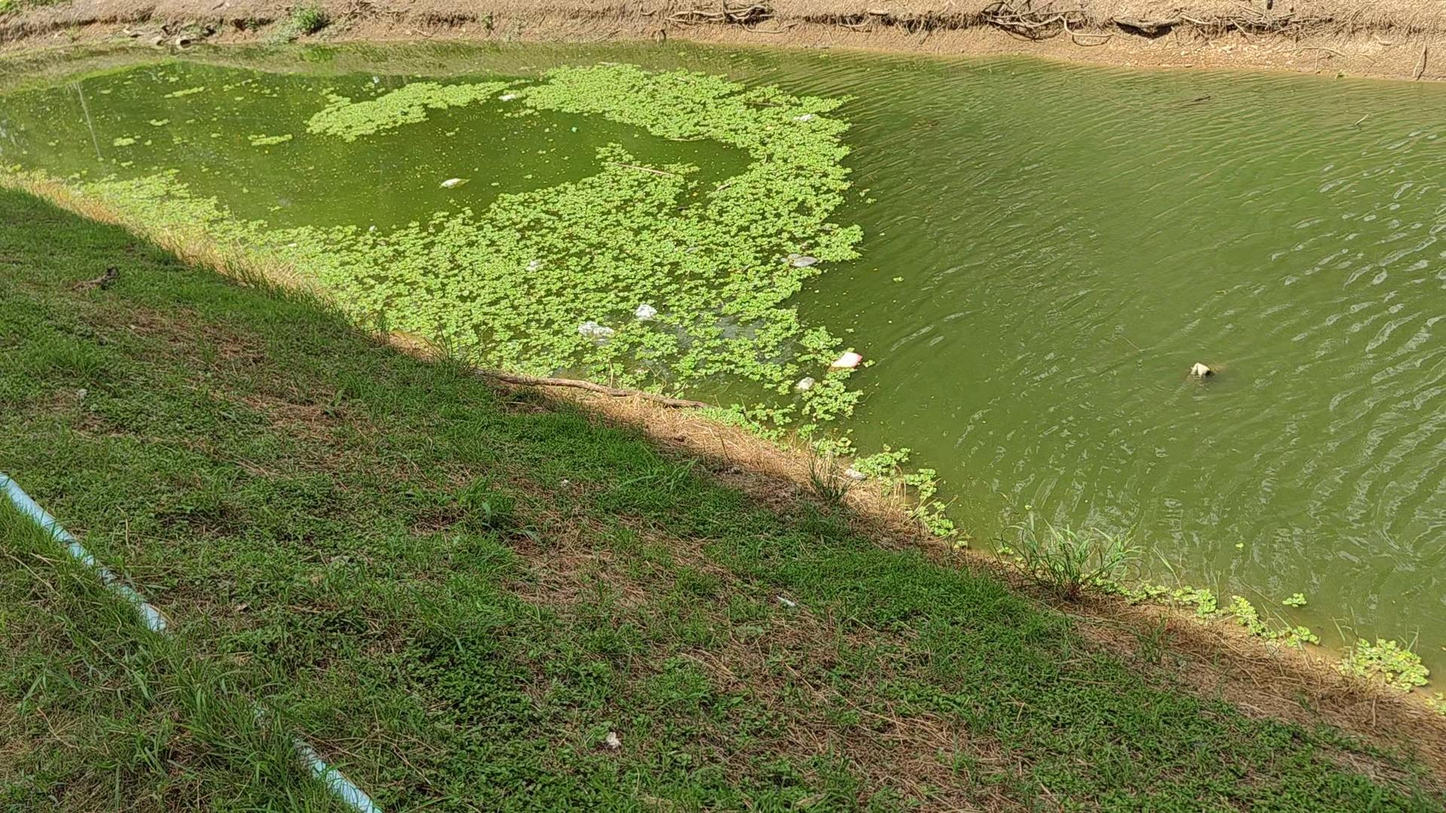trash: (579, 320, 615, 340), (831, 352, 862, 369), (634, 303, 657, 319), (789, 254, 818, 266), (1192, 362, 1213, 377), (797, 376, 814, 391), (441, 178, 468, 187), (527, 260, 540, 271), (795, 114, 813, 121), (501, 93, 517, 100)
